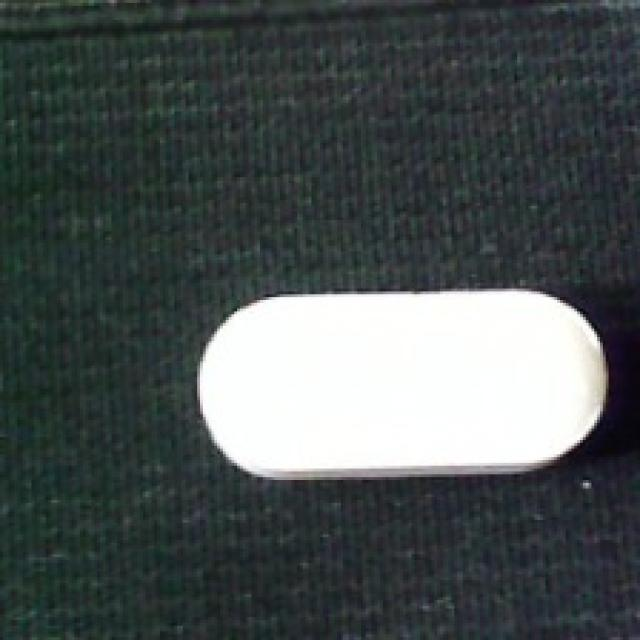no-defect: (195, 280, 614, 480)
